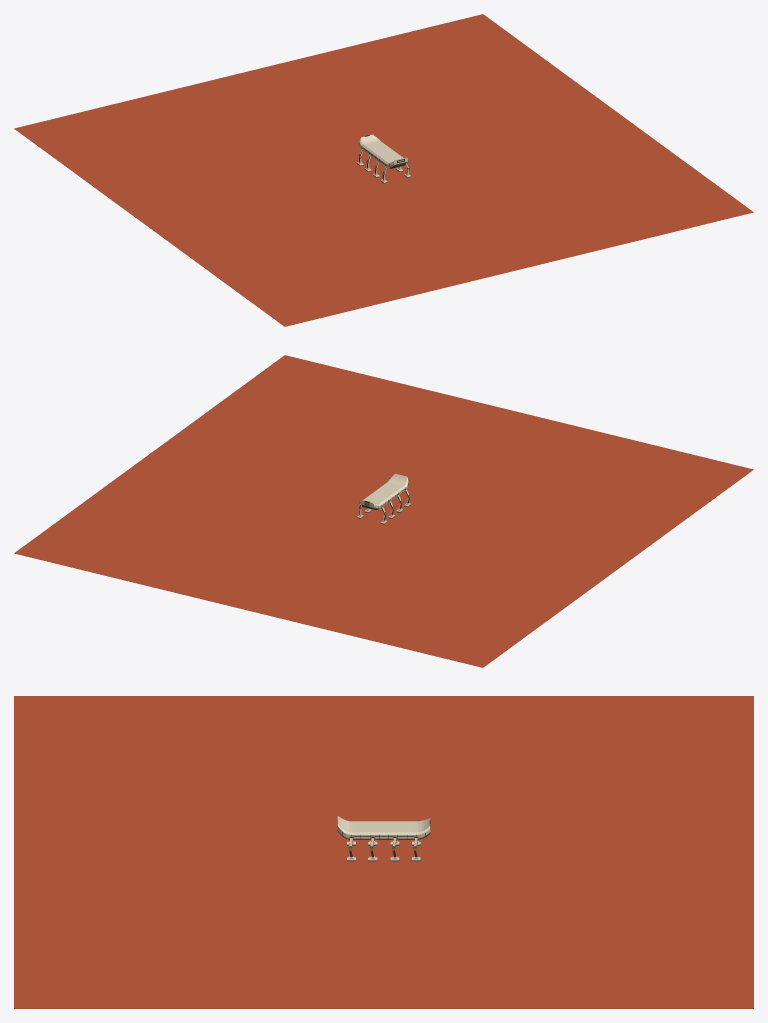
File: ordo_far.glb
3 views of the same model, one above another, from view 1: azimuth 30°, elevation 25°; view 2: azimuth 150°, elevation 25°; view 3: azimuth 270°, elevation 25° (orthographic). The views are drawn at different scales.
Parts seen in each view (by area): view 1: ordo_far; view 2: ordo_far; view 3: ordo_far.
Part boxes in pixels (x1=…): ordo_far: x1=14, y1=14, x2=753, y2=326; ordo_far: x1=14, y1=355, x2=753, y2=667; ordo_far: x1=14, y1=696, x2=753, y2=1008.
Size of the model in its own units: 3200 by 157 by 3200.
